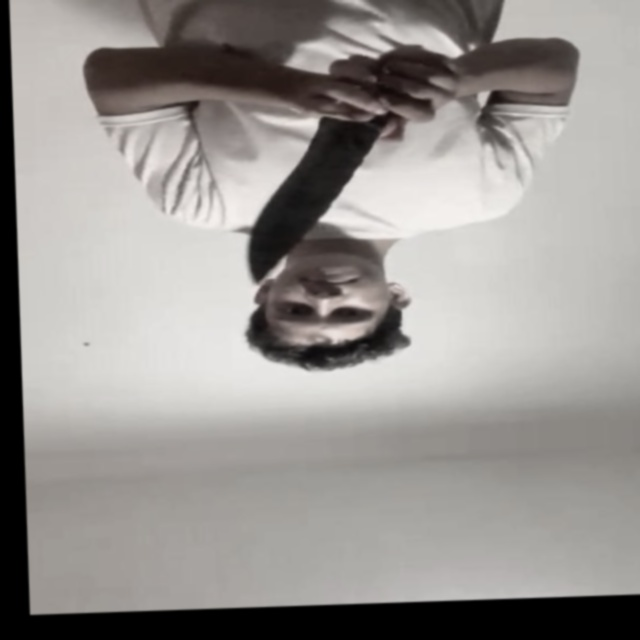Sharp-Object: (237, 114, 386, 285)
